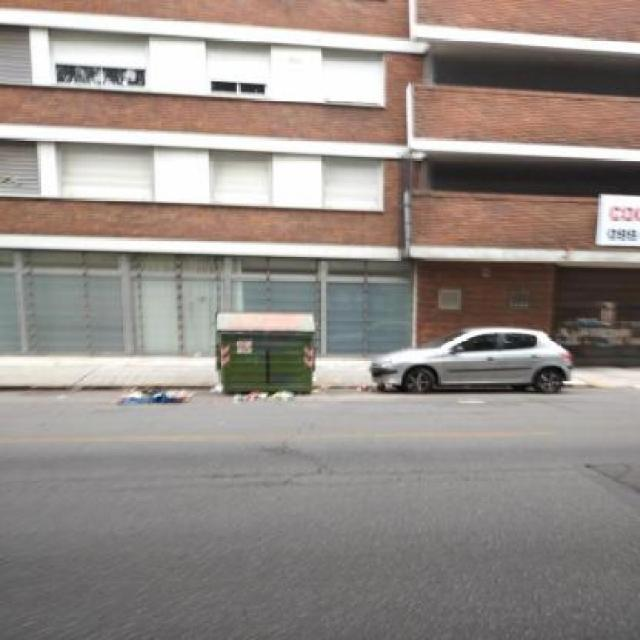garbage: (106, 376, 197, 409), (235, 385, 308, 404), (349, 376, 376, 395)
